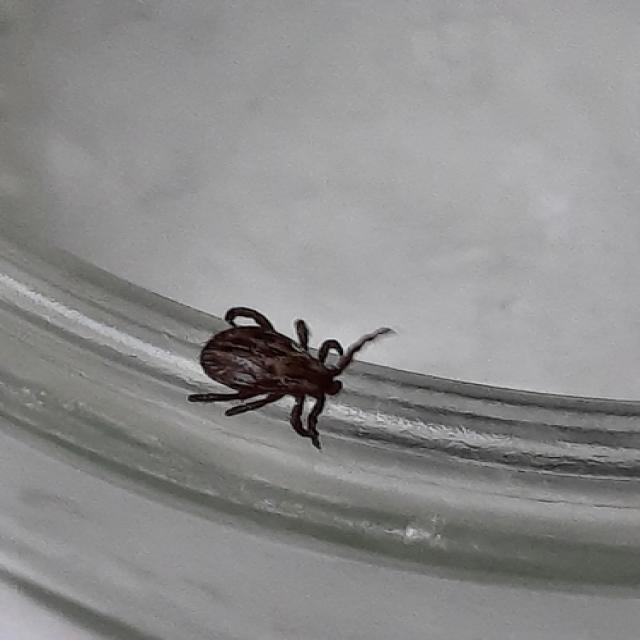Dermacentor Reticulatus-M: (189, 308, 394, 451)
